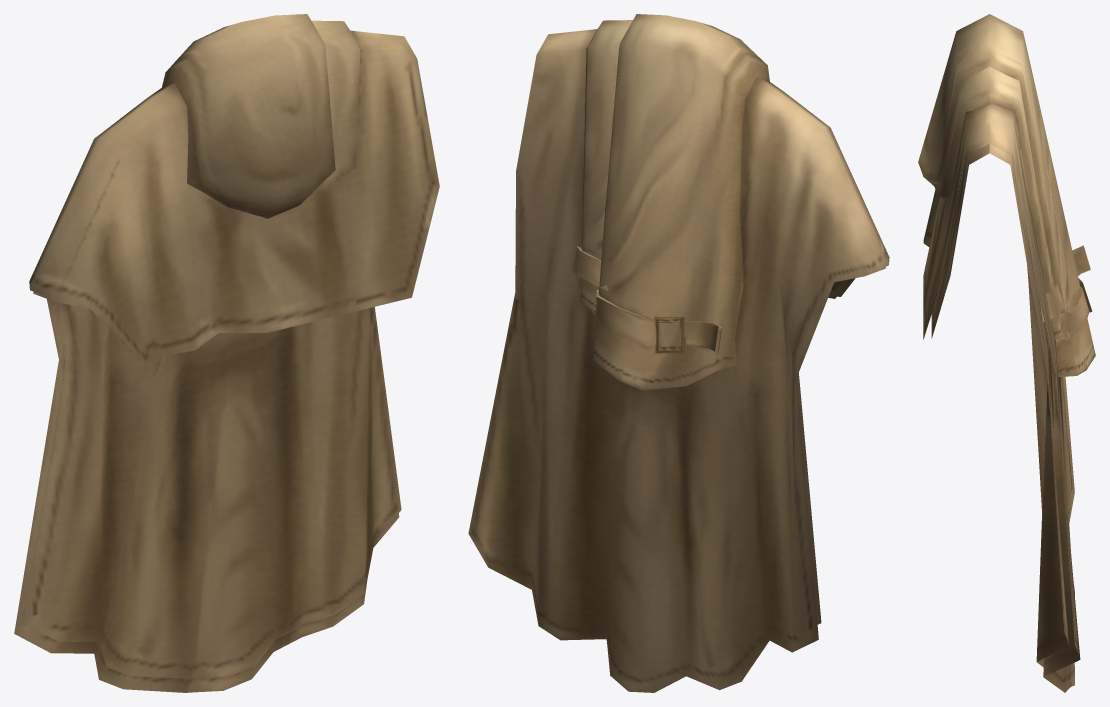
File: ZhiBanShi_01_fengyi_01.FBX
The picture shows the model from 3 angles, left to right: view 1: azimuth 30°, elevation 25°; view 2: azimuth 150°, elevation 25°; view 3: azimuth 270°, elevation 25°; orthographic projection. The views are drawn at different scales.
Visible parts, largest first — view 1: ZhiBanShi_dayii_01; view 2: ZhiBanShi_dayii_01; view 3: ZhiBanShi_dayii_01.
Boxes of the visible parts, x1,y1,x2,y2 form: ZhiBanShi_dayii_01: (14,14,439,692); ZhiBanShi_dayii_01: (468,14,889,692); ZhiBanShi_dayii_01: (918,14,1095,692).
Bounding box in the file's own units: 249 × 406 × 100.
